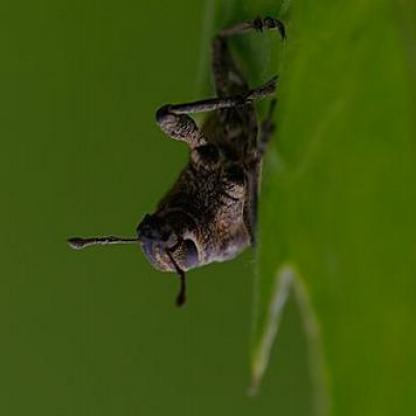rice-bug: (136, 17, 294, 278)
